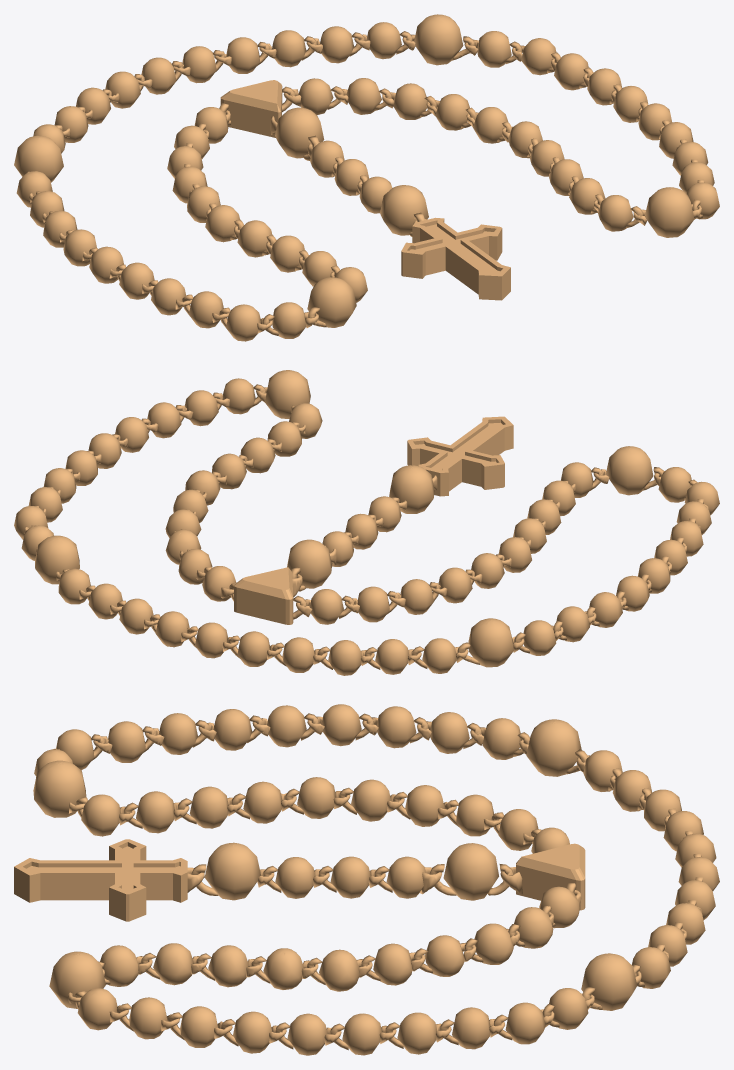
File: Rosario.fbx
The picture shows the model from 3 angles, top to bottom: view 1: azimuth 30°, elevation 25°; view 2: azimuth 150°, elevation 25°; view 3: azimuth 270°, elevation 25°; orthographic projection. The views are drawn at different scales.
Visible parts, largest first — view 1: Rosario; view 2: Rosario; view 3: Rosario.
Boxes of the visible parts, x1,y1,x2,y2 form: Rosario: (14, 14, 719, 341); Rosario: (14, 370, 719, 675); Rosario: (14, 704, 719, 1055).
Size of the model in its own units: 30.65 by 2.11 by 27.96.
